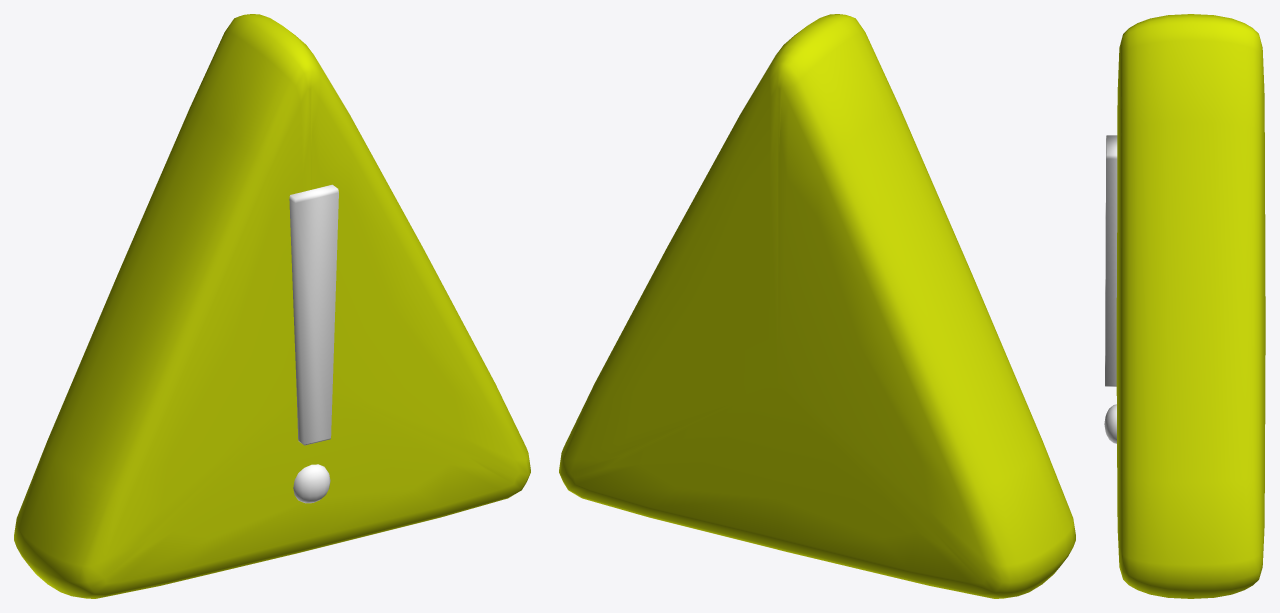
Rendered from yellow_triangle.glb.
3 views of the same model, side by side, from view 1: azimuth 30°, elevation 25°; view 2: azimuth 150°, elevation 25°; view 3: azimuth 270°, elevation 25° (orthographic). The views are drawn at different scales.
Parts seen in each view (by area): view 1: 黄三角, 感叹号.002; view 2: 黄三角; view 3: 黄三角, 感叹号.002.
Boxes of the visible parts, x1,y1,x2,y2 form: 黄三角: [14, 14, 530, 598]; 感叹号.002: [289, 184, 338, 503]; 黄三角: [559, 14, 1075, 598]; 黄三角: [1116, 14, 1265, 598]; 感叹号.002: [1104, 135, 1117, 443].
Bounding box in the file's own units: 1.46 × 1.5 × 0.4501.
